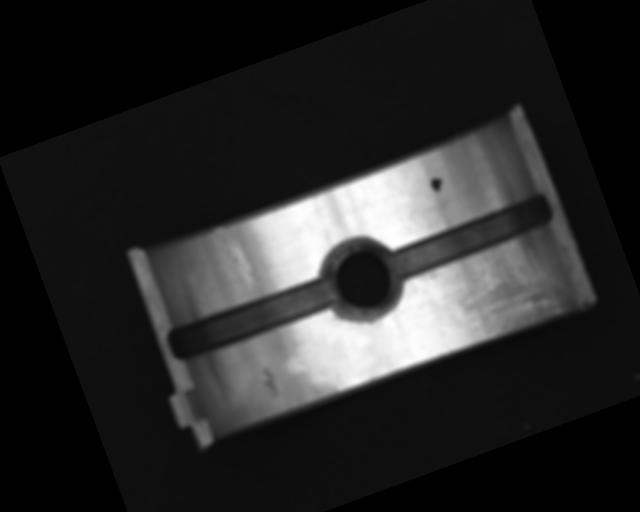blot: (427, 173, 446, 194)
bruise: (256, 362, 286, 401)
gap: (164, 269, 341, 366), (382, 191, 557, 284)
hole: (313, 227, 413, 331)
nick: (213, 221, 259, 296)
scratch: (437, 228, 577, 351)
